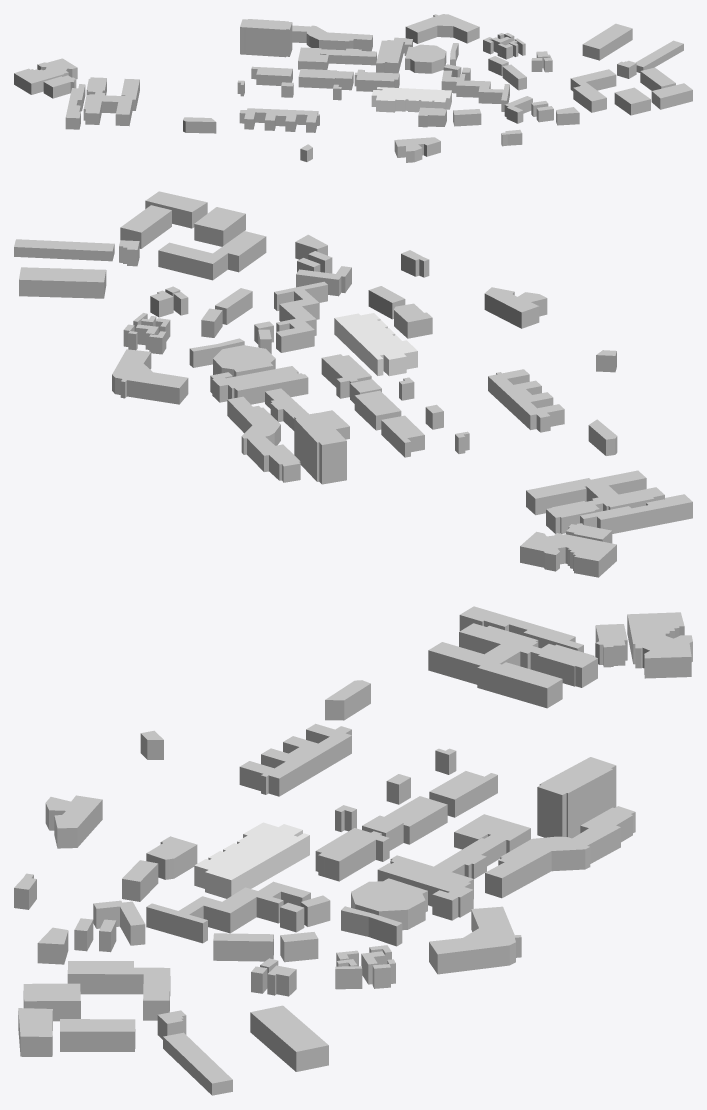
The model's file is 건물들.fbx.
3 views of the same model, one above another, from view 1: azimuth 30°, elevation 25°; view 2: azimuth 150°, elevation 25°; view 3: azimuth 270°, elevation 25° (orthographic). The views are drawn at different scales.
Visible parts, largest first — view 1: 공학관, 북악관, 예술관, 과학관, 종합복지관, 조형관, 본부관, 생활관, 정몽구 백신혁신센터, 성곡도서관, 548857039, 체육관 (+22 smaller); view 2: 공학관, 예술관, 조형관, 성곡도서관, 정몽구 백신혁신센터, 북악관, 종합복지관, 생활관, 과학관, 548857039, 법학관, 산학협력관 (+18 smaller); view 3: 공학관, 조형관, 예술관, 생활관, 북악관, 종합복지관, 과학관, 성곡도서관, 정몽구 백신혁신센터, 본부관, 548857039, 법학관 (+22 smaller).
Part boxes in pixels (x1,y1,x2,y2): 공학관: (83,77,139,126); 북악관: (240,19,292,57); 예술관: (371,87,451,112); 과학관: (405,14,479,43); 종합복지관: (239,108,319,132); 조형관: (292,25,372,51); 본부관: (298,47,376,69); 생활관: (441,70,509,111); 정몽구 백신혁신센터: (570,69,616,112); 성곡도서관: (14,58,77,94); 548857039: (582,23,632,60); 체육관: (405,44,446,73); 공학관: (526,470,664,533); 예술관: (334,313,417,376); 조형관: (227,396,300,482); 성곡도서관: (520,531,616,577); 정몽구 백신혁신센터: (158,231,266,280); 북악관: (294,413,346,484); 종합복지관: (488,369,564,432); 생활관: (274,281,327,352); 과학관: (112,349,188,404); 548857039: (19,267,106,298); 법학관: (210,366,308,404); 산학협력관: (580,494,692,533); 공학관: (428,623,597,708); 조형관: (485,806,635,898); 예술관: (194,822,309,898); 생활관: (146,881,310,943); 북악관: (537,757,616,838); 종합복지관: (239,723,351,796); 과학관: (429,906,521,974); 성곡도서관: (627,612,692,678); 정몽구 백신혁신센터: (67,961,170,1020); 본부관: (434,814,530,878); 548857039: (250,1005,328,1071); 법학관: (377,855,473,920).
Bounding box in the file's own units: 99778 × 4800 × 61021.
1 material, 1 textured.
